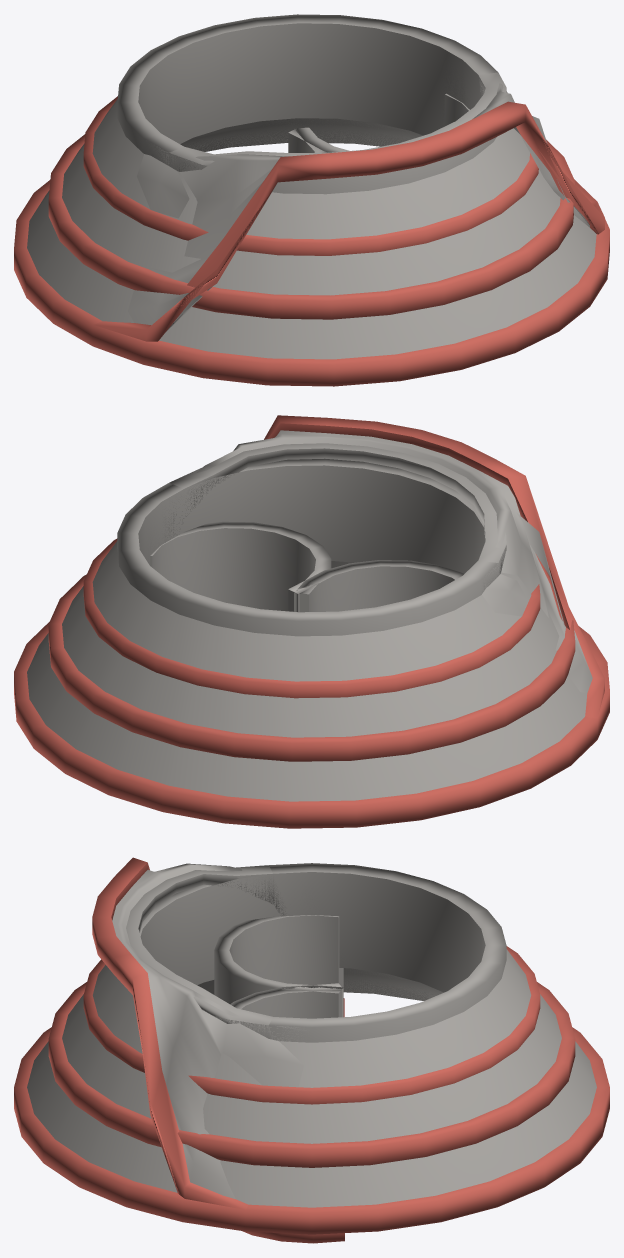
The model's file is checkered_school_skirt.glb.
3 views of the same model, one above another, from view 1: azimuth 30°, elevation 25°; view 2: azimuth 150°, elevation 25°; view 3: azimuth 270°, elevation 25° (orthographic).
Visible parts, largest first — view 1: checkered_school_skirt_Body, checkered_school_skirt_Body_sit, checkered_school_skirt_LegR_sit; view 2: checkered_school_skirt_Body, checkered_school_skirt_Body_sit, checkered_school_skirt_LegR_sit, checkered_school_skirt_LegL_sit; view 3: checkered_school_skirt_Body, checkered_school_skirt_Body_sit, checkered_school_skirt_LegL_sit, checkered_school_skirt_LegR_sit.
Boxes of the visible parts, x1=… form: checkered_school_skirt_Body: x1=14, y1=14, x2=609, y2=386; checkered_school_skirt_Body_sit: x1=93, y1=48, x2=604, y2=341; checkered_school_skirt_LegR_sit: x1=294, y1=93, x2=469, y2=152; checkered_school_skirt_Body: x1=14, y1=458, x2=609, y2=828; checkered_school_skirt_Body_sit: x1=145, y1=415, x2=604, y2=718; checkered_school_skirt_LegR_sit: x1=150, y1=521, x2=331, y2=612; checkered_school_skirt_LegL_sit: x1=294, y1=560, x2=463, y2=612; checkered_school_skirt_Body: x1=14, y1=863, x2=609, y2=1234; checkered_school_skirt_Body_sit: x1=92, y1=857, x2=443, y2=1209; checkered_school_skirt_LegL_sit: x1=214, y1=915, x2=344, y2=1017; checkered_school_skirt_LegR_sit: x1=230, y1=985, x2=344, y2=1243.
Bounding box in the file's own units: 0.628 × 0.2847 × 0.628.
